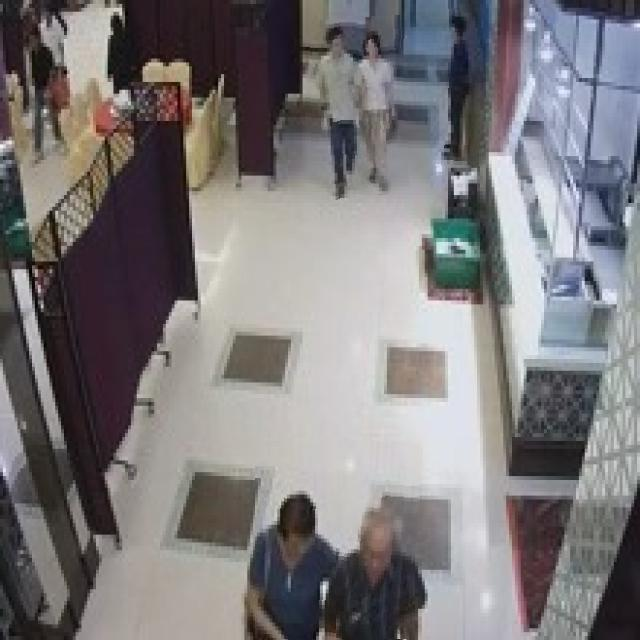Normal: (330, 438, 420, 640), (255, 442, 337, 640), (310, 20, 362, 202), (425, 9, 484, 166), (357, 16, 407, 195)
